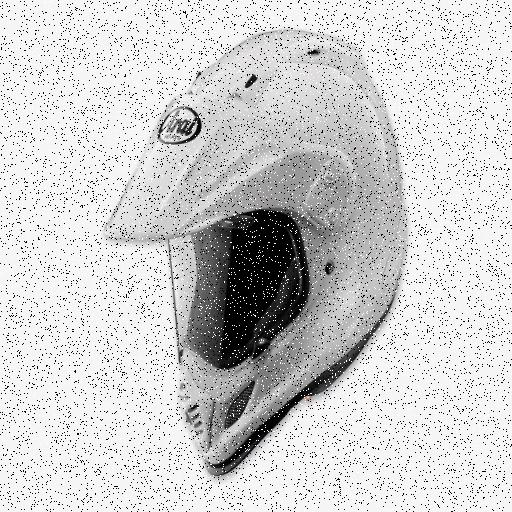Helmet: (81, 10, 432, 475)
